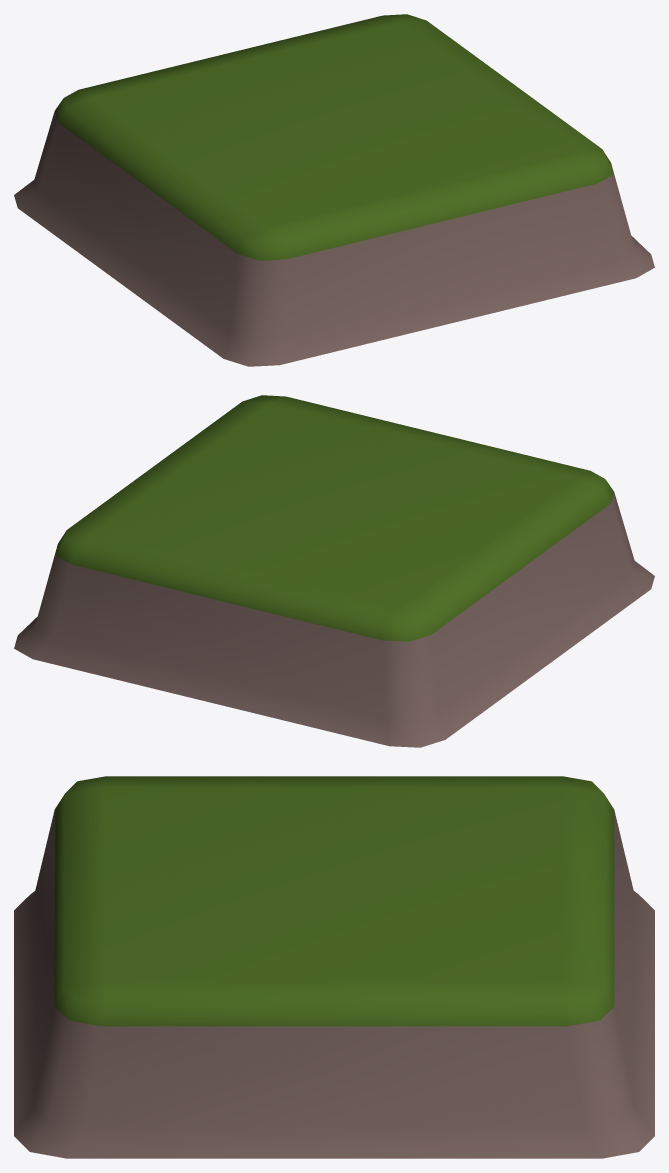
Rendered from landblocksmooth.gltf.
3 views of the same model, one above another, from view 1: azimuth 30°, elevation 25°; view 2: azimuth 150°, elevation 25°; view 3: azimuth 270°, elevation 25° (orthographic). The views are drawn at different scales.
Visible parts, largest first — view 1: landblocksimple; view 2: landblocksimple; view 3: landblocksimple.
Boxes of the visible parts, left/top/right/bottom form: landblocksimple: left=14, top=14, right=654, bottom=366; landblocksimple: left=14, top=395, right=654, bottom=747; landblocksimple: left=14, top=776, right=654, bottom=1158.
Size of the model in its own units: 4.2 by 1 by 4.2.
